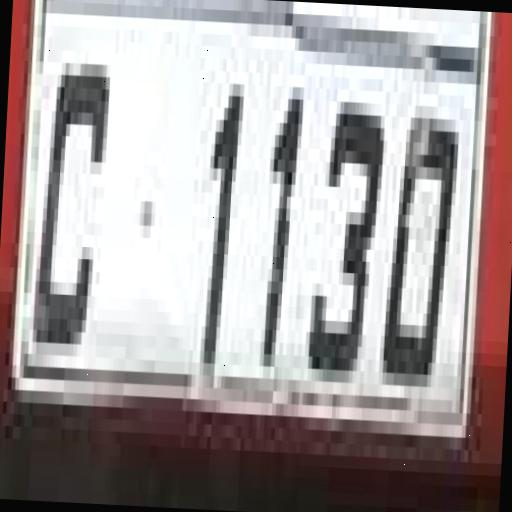number plate: (9, 0, 512, 427)
